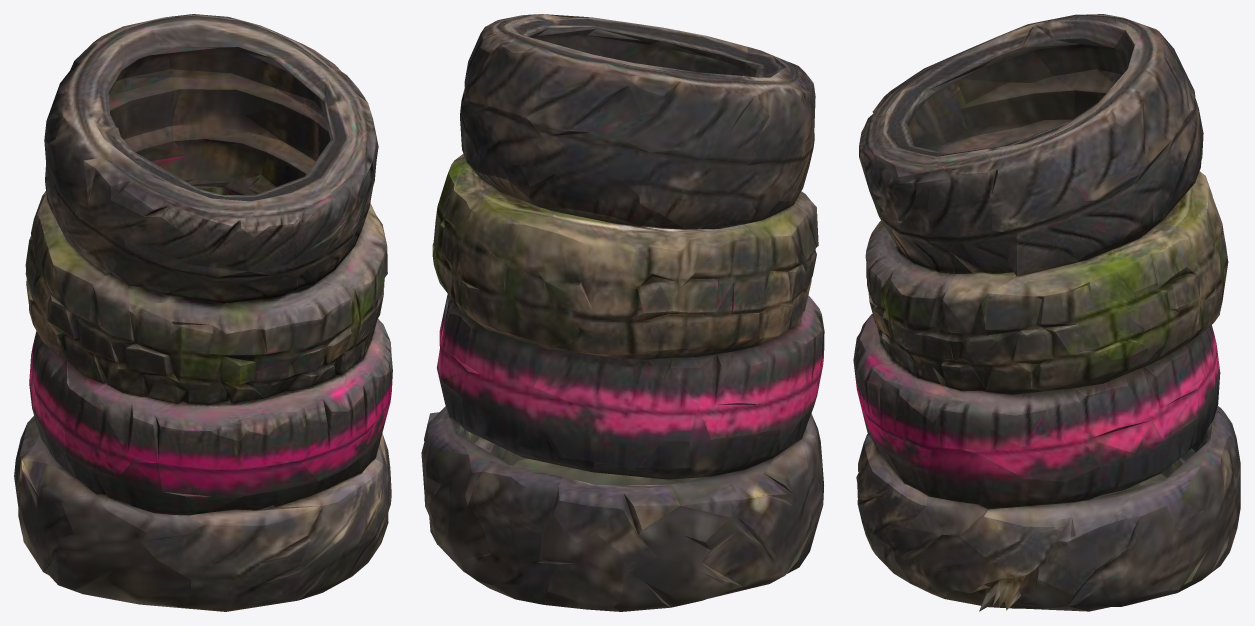
Rendered from prop_tyres.glb.
3 renders of one model, left to right at view 1: azimuth 30°, elevation 25°; view 2: azimuth 150°, elevation 25°; view 3: azimuth 270°, elevation 25°, orthographic. The views are drawn at different scales.
Bounding box in the file's own units: 1.35 × 1.9 × 1.35.
Materials: 1 (1 with a texture image).
